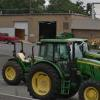Tractor: (15, 32, 100, 100)
